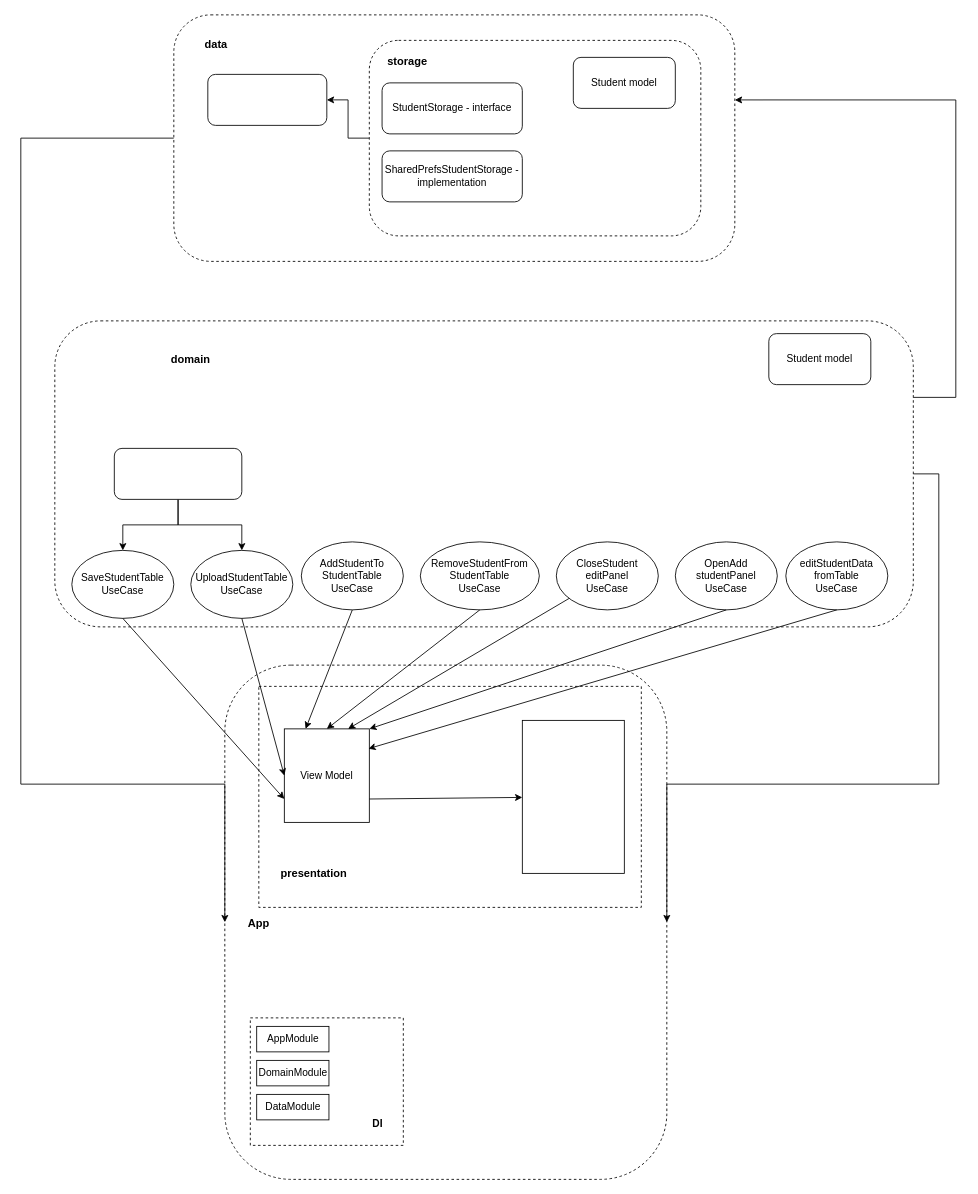
The diagram is 978 pixels wide and 1194 high, and some of its shapes have lost their labels. Each missing label, with the centre of its shape:
"Activity" belongs at (x=572, y=796).
"SyudentRepositoryImpl- implementation" belongs at (x=267, y=99).
"UserRepository- interace" belongs at (x=177, y=473).
